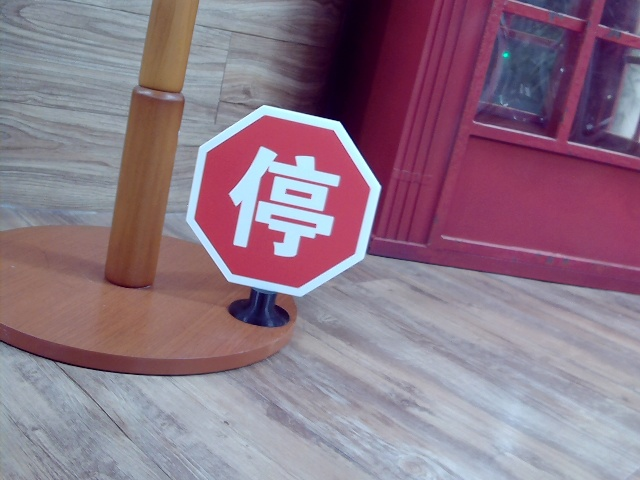stop: (232, 137, 337, 260)
